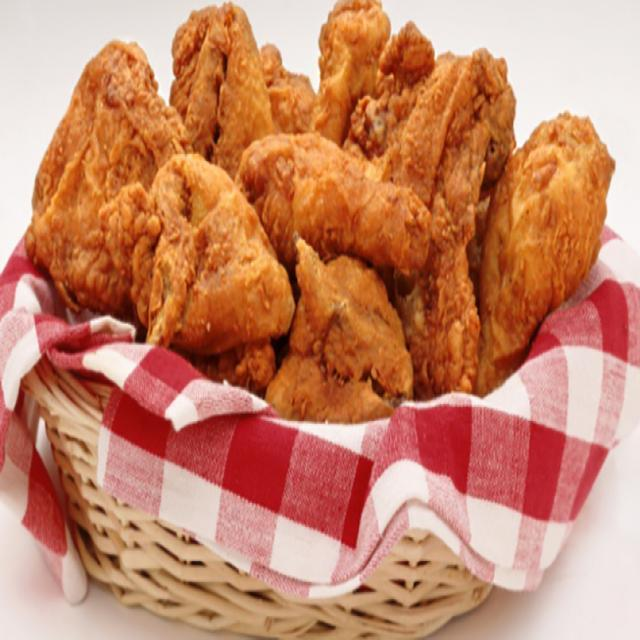Frango: (39, 2, 597, 393)
